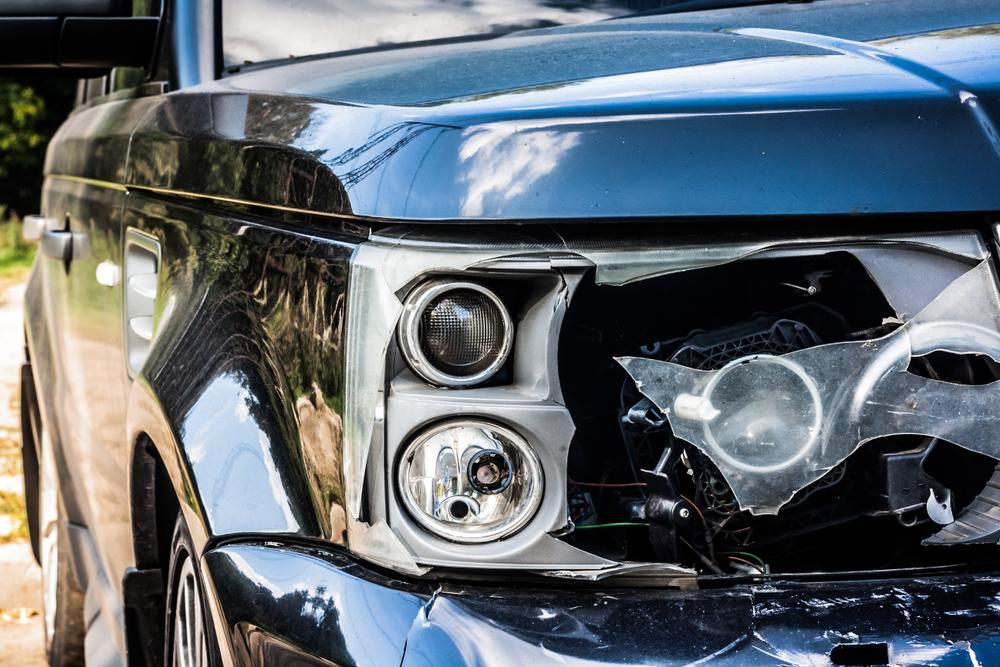crack: (399, 587, 445, 667)
lamp broken: (341, 233, 1000, 589)
